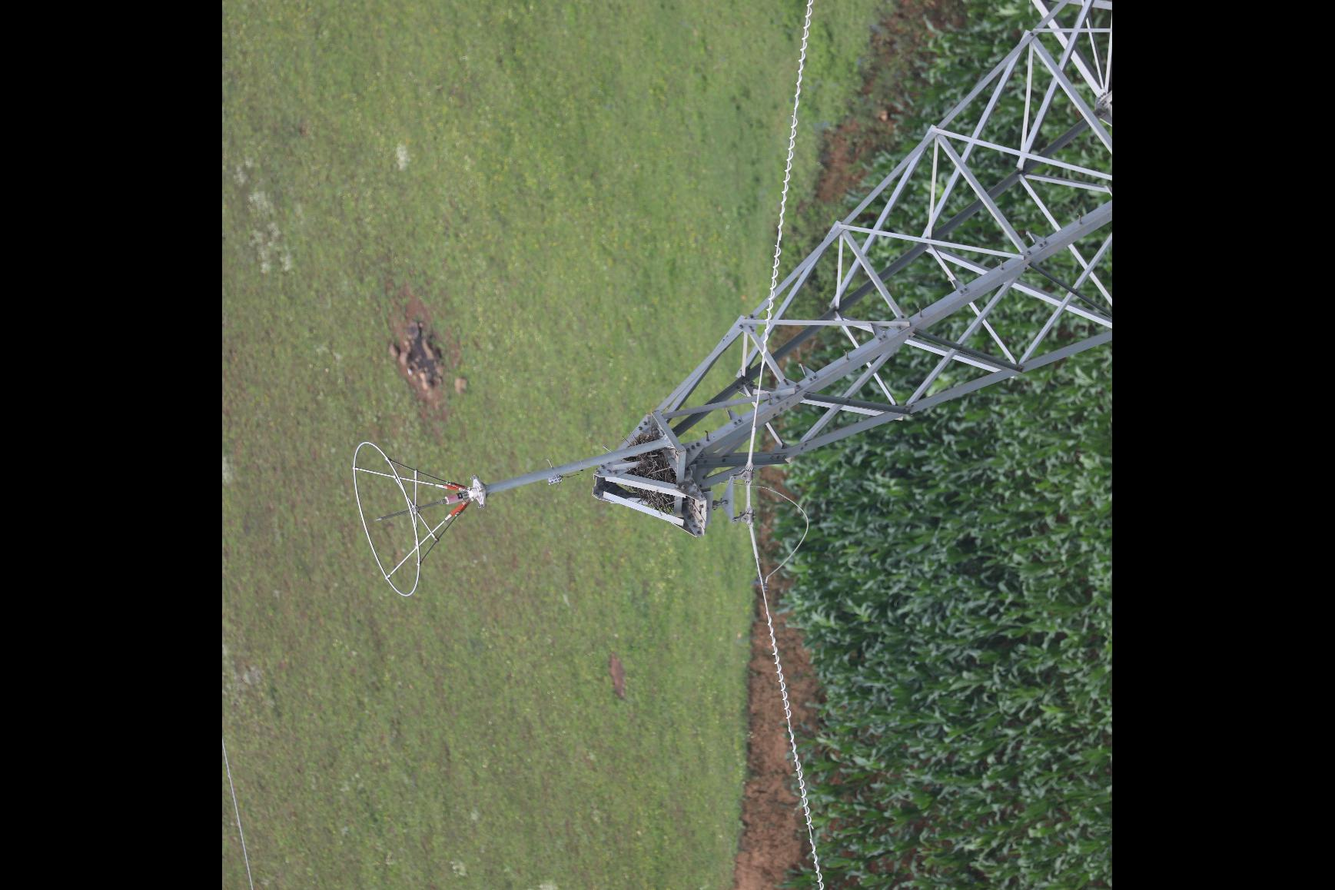nest: (633, 449, 678, 515)
